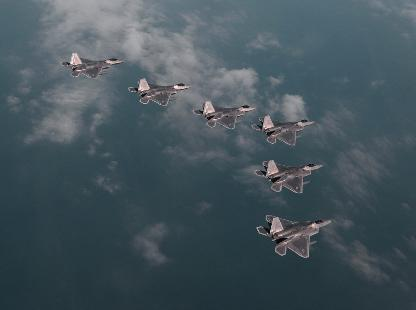F18: (257, 214, 333, 258), (254, 160, 324, 194), (251, 115, 315, 146), (193, 100, 257, 130), (128, 78, 194, 106), (62, 52, 126, 78)
